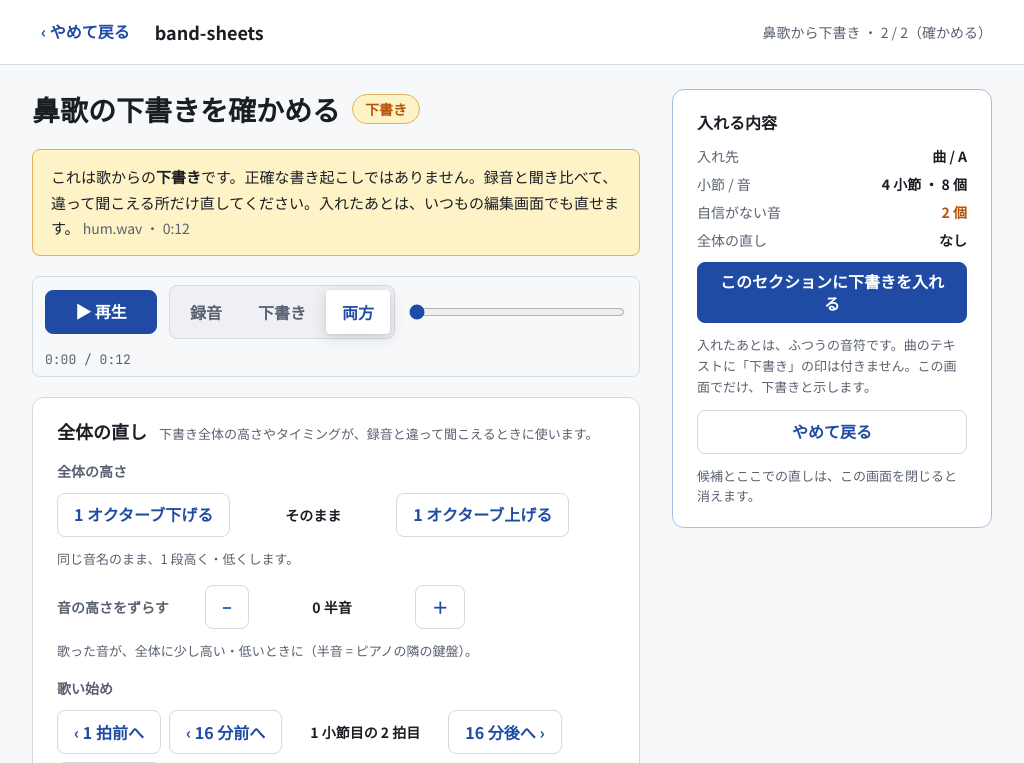
Test: HumReview fixes (characterization) › shift: a 16th and a beat, joined with 「・」 after the other fixes
The width and height of the screenshot is (1024, 763).
Click the button named "半音上げる" at [440, 607], box [415,585,465,629]
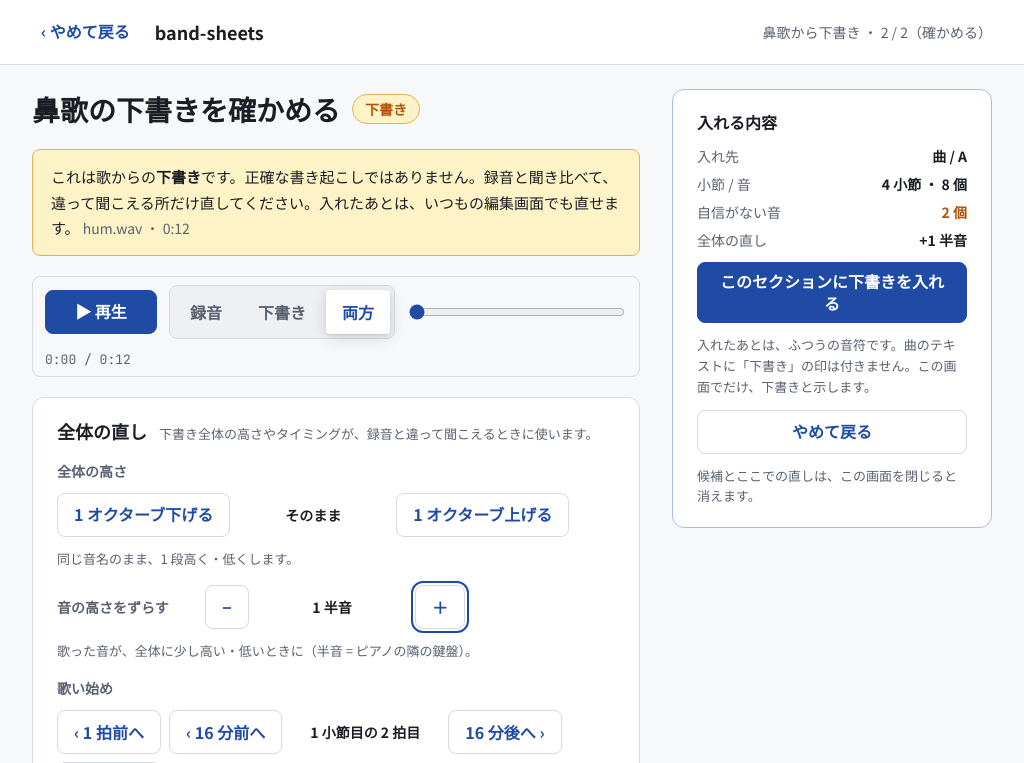
Click the button "16 分後へ ›" at [505, 732], box [448,710,562,754]
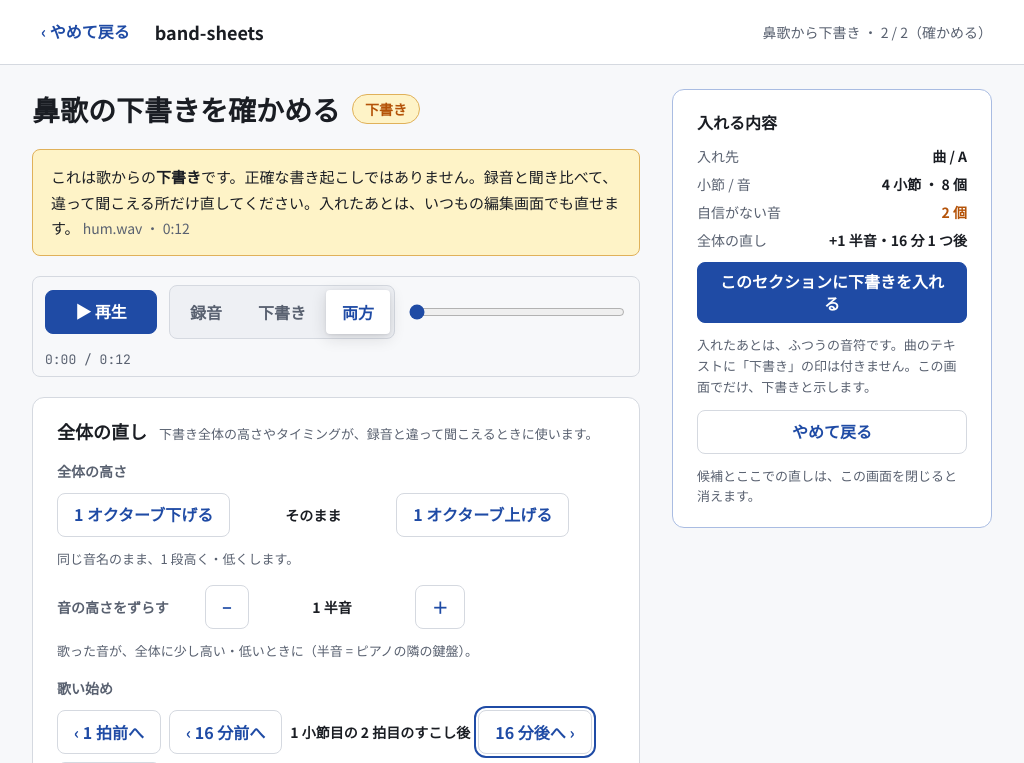
Expected: the text with test id "hum-fixes" reads "+1 半音・16 分 1 つ後", [829,230,967,250]
Click the button "‹ 1 拍前へ" at [109, 732], box [57,710,161,754]
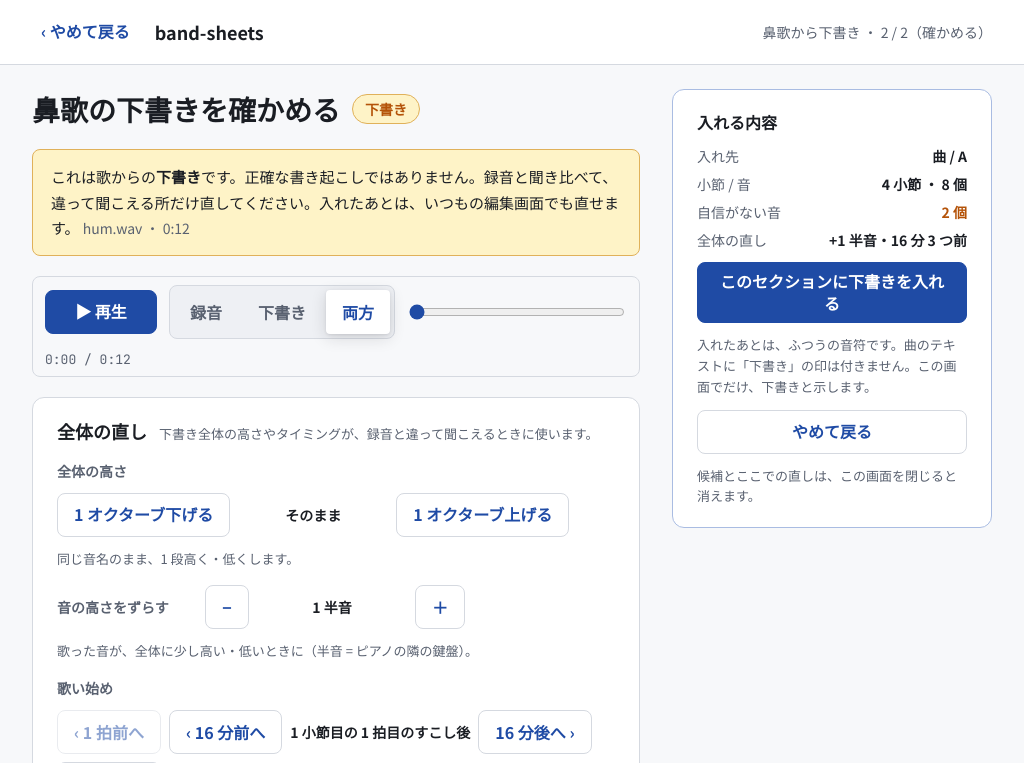
Expected: the text with test id "hum-fixes" reads "+1 半音・16 分 3 つ前", [829,230,967,250]
